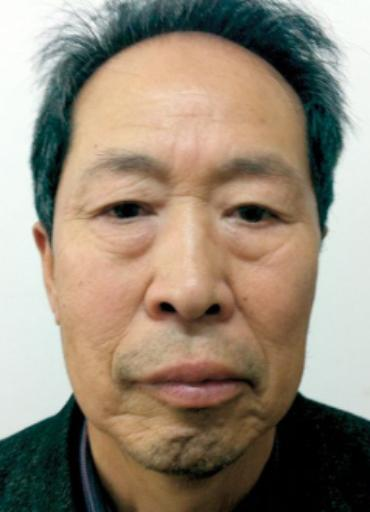left_eye: (221, 202, 287, 234)
left_lip_corner: (238, 370, 259, 398)
right_eye: (86, 201, 159, 231)
right_lip_corner: (119, 367, 159, 396)
